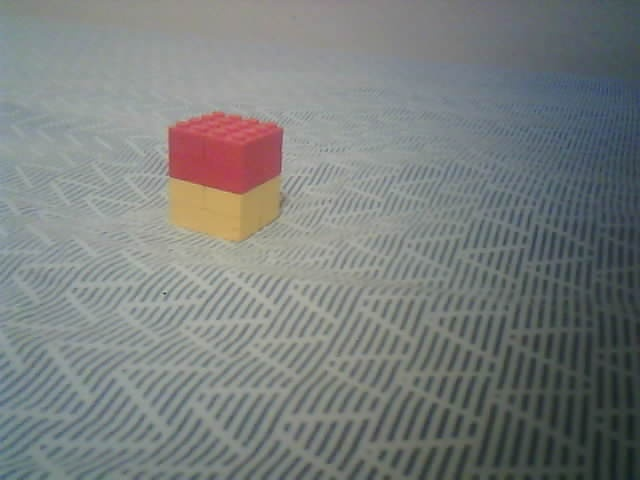lego: (165, 110, 285, 242)
